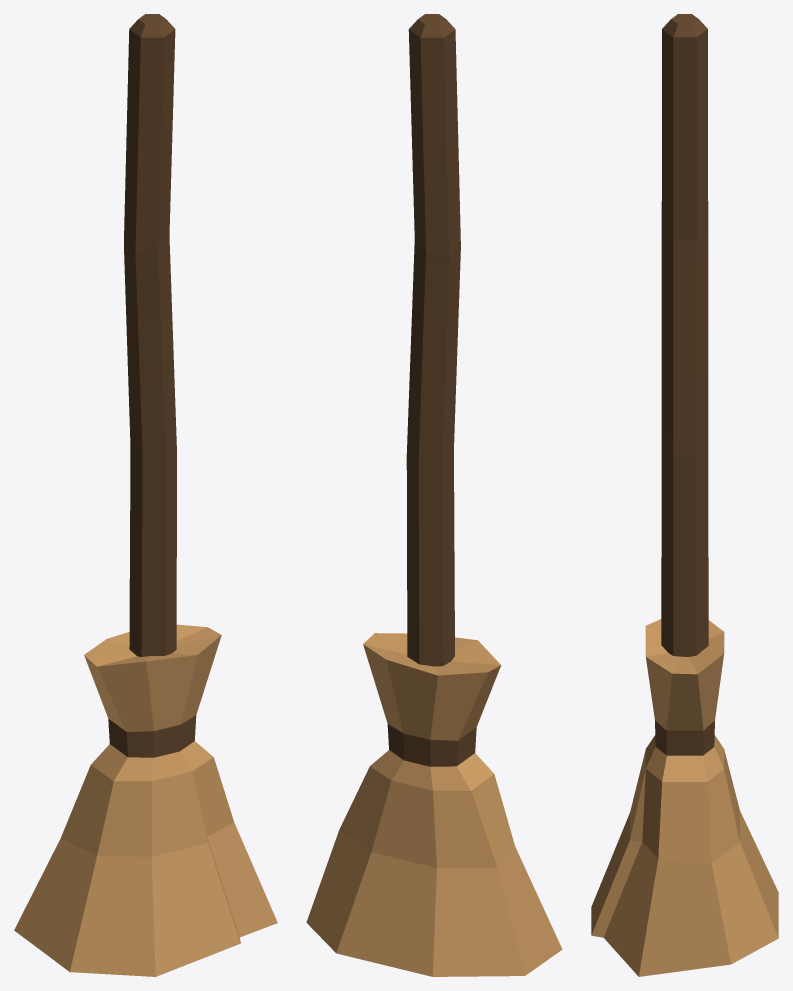
The model's file is tools_broom.fbx.
3 renders of one model, left to right at view 1: azimuth 30°, elevation 25°; view 2: azimuth 150°, elevation 25°; view 3: azimuth 270°, elevation 25°, orthographic.
Visible parts, largest first — view 1: tools_broom; view 2: tools_broom; view 3: tools_broom.
Boxes of the visible parts, x1=… form: tools_broom: x1=14, y1=14, x2=277, y2=976; tools_broom: x1=306, y1=14, x2=562, y2=976; tools_broom: x1=591, y1=14, x2=778, y2=976.
Bounding box in the file's own units: 49.78 × 200 × 37.26.
